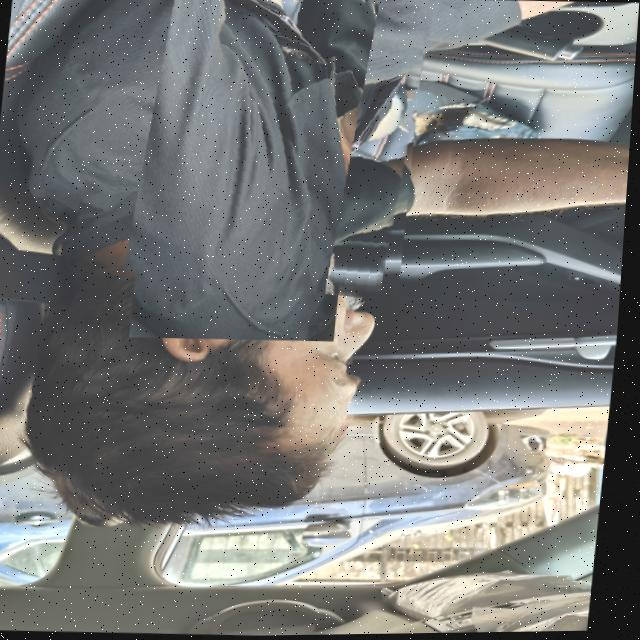no-seatbelt: (74, 0, 427, 298)
